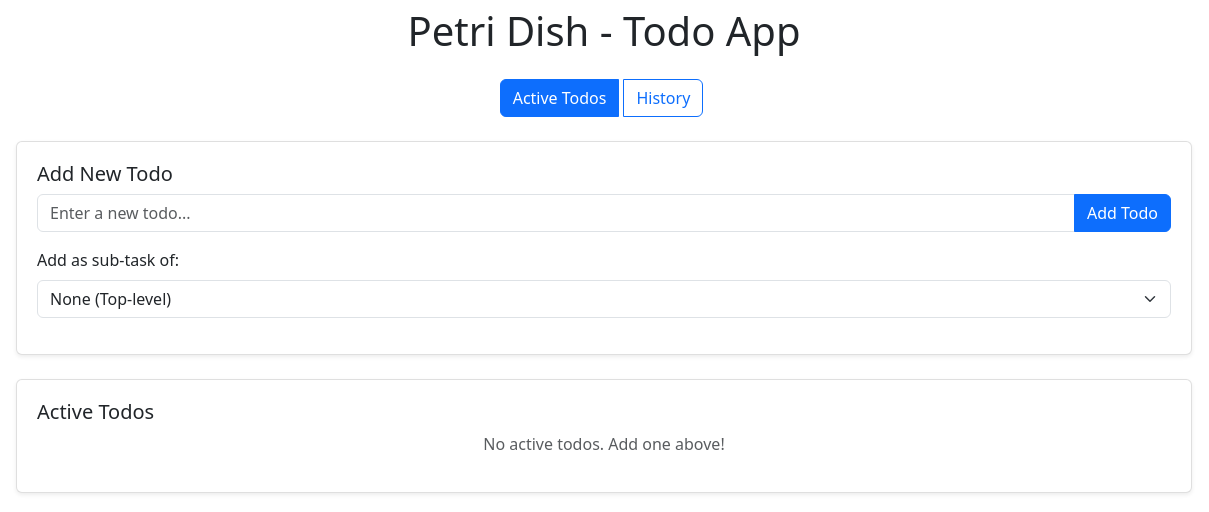
App Component › Display Features › shows empty state message for completed todos
Click the button "History": (663, 98) [623,79,703,117]
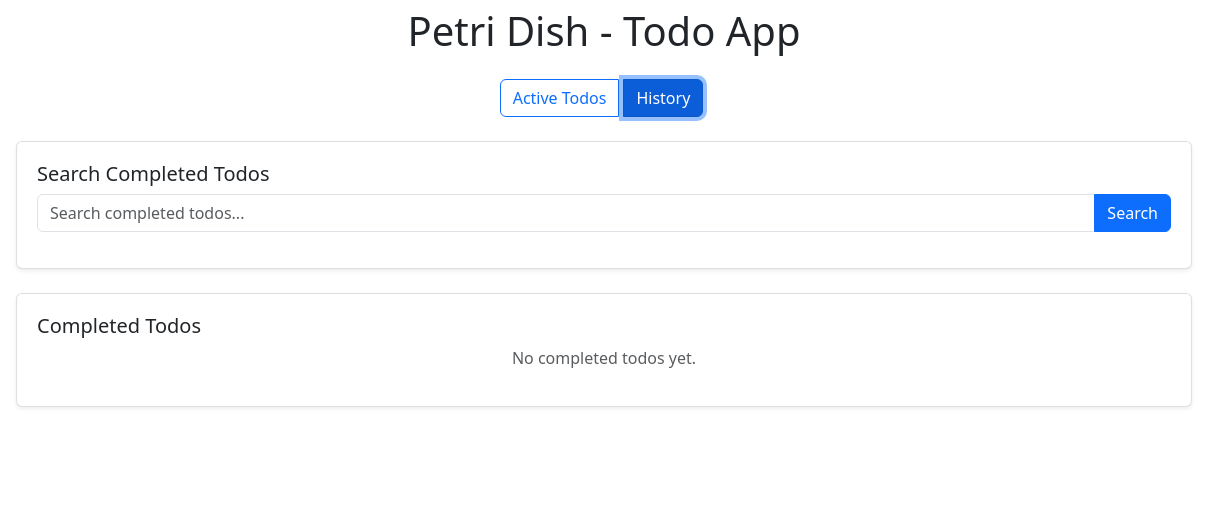
Now the text "No completed todos yet." is shown, box [512,347,696,369]
